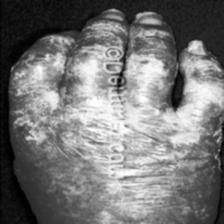Non-Cancerous Skin Condition: (29, 45, 203, 224)
